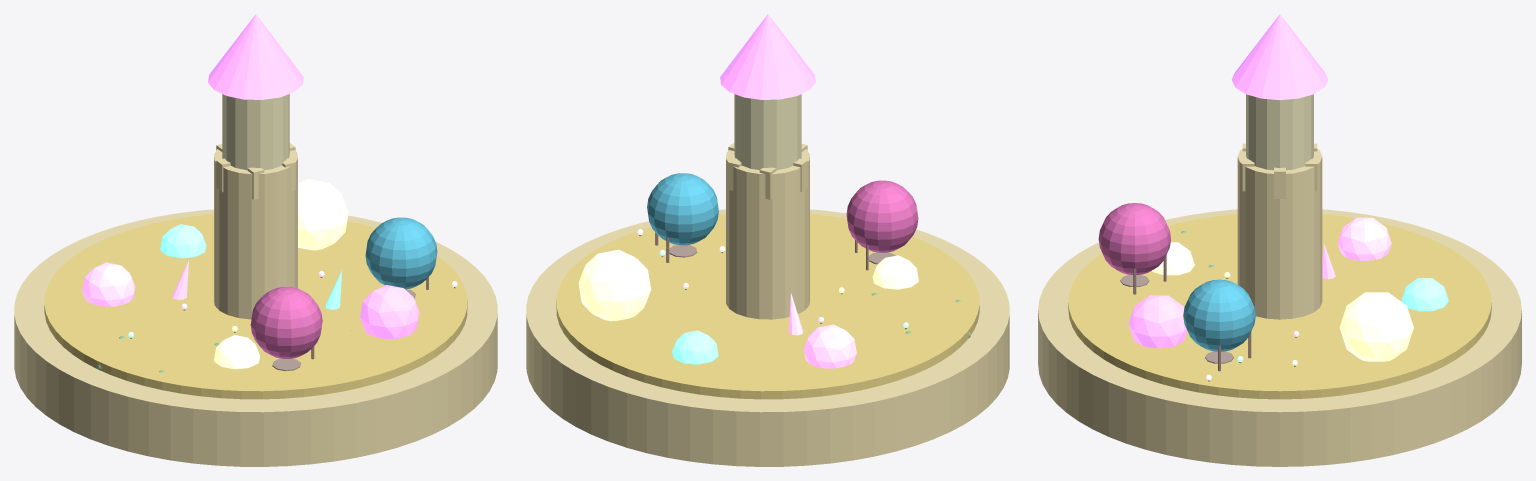
File: 07_sternenzitadelle.glb
3 views of the same model, side by side, from view 1: azimuth 30°, elevation 25°; view 2: azimuth 150°, elevation 25°; view 3: azimuth 270°, elevation 25° (orthographic).
Parts seen in each view (by area): view 1: IslandBase, GroundLayer, CitadelTower, CitadelTop, CitadelTower2, Balloon, Balloon.001, Star, Star.002, Star.001, Star.004, Star.003; view 2: GroundLayer, IslandBase, CitadelTower, CitadelTop, CitadelTower2, Balloon.001, Balloon, Star, Star.001, Star.003, Star.004; view 3: IslandBase, GroundLayer, CitadelTower, CitadelTop, CitadelTower2, Balloon, Balloon.001, Star, Star.002, Star.001, Star.004, Star.003.
Part boxes in pixels (x1=…): IslandBase: x1=14, y1=209, x2=497, y2=466; GroundLayer: x1=44, y1=214, x2=467, y2=399; CitadelTower: x1=214, y1=149, x2=297, y2=319; CitadelTop: x1=208, y1=14, x2=303, y2=99; CitadelTower2: x1=222, y1=94, x2=289, y2=170; Balloon: x1=250, y1=287, x2=322, y2=358; Balloon.001: x1=365, y1=217, x2=437, y2=289; Star: x1=298, y1=178, x2=348, y2=250; Star.002: x1=360, y1=285, x2=419, y2=338; Star.001: x1=82, y1=262, x2=135, y2=306; Star.004: x1=160, y1=224, x2=206, y2=258; Star.003: x1=214, y1=335, x2=260, y2=369; GroundLayer: x1=556, y1=214, x2=979, y2=399; IslandBase: x1=526, y1=209, x2=1009, y2=466; CitadelTower: x1=726, y1=149, x2=809, y2=319; CitadelTop: x1=720, y1=14, x2=815, y2=99; CitadelTower2: x1=734, y1=94, x2=801, y2=170; Balloon.001: x1=647, y1=173, x2=718, y2=245; Balloon: x1=846, y1=180, x2=918, y2=252; Star: x1=578, y1=249, x2=651, y2=321; Star.001: x1=804, y1=324, x2=856, y2=368; Star.003: x1=872, y1=255, x2=918, y2=289; Star.004: x1=672, y1=330, x2=718, y2=364; IslandBase: x1=1038, y1=209, x2=1521, y2=466; GroundLayer: x1=1068, y1=214, x2=1491, y2=399; CitadelTower: x1=1237, y1=149, x2=1322, y2=319; CitadelTop: x1=1231, y1=14, x2=1328, y2=100; CitadelTower2: x1=1246, y1=94, x2=1313, y2=170; Balloon: x1=1098, y1=203, x2=1170, y2=274; Balloon.001: x1=1183, y1=279, x2=1255, y2=351; Star: x1=1339, y1=292, x2=1413, y2=361; Star.002: x1=1128, y1=295, x2=1187, y2=348; Star.001: x1=1337, y1=217, x2=1391, y2=260; Star.004: x1=1401, y1=278, x2=1448, y2=311; Star.003: x1=1152, y1=242, x2=1194, y2=275.
Bounding box in the file's own units: 10 × 8 × 10.
